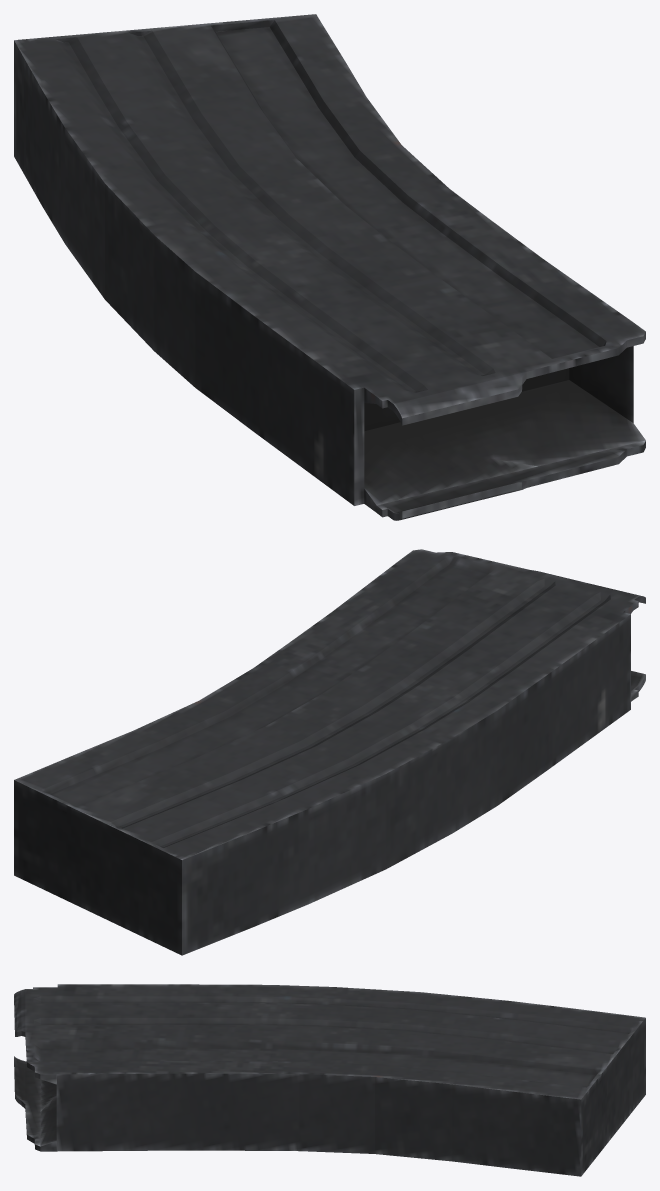
File: VHS2_Custom_magazine.obj
3 views of the same model, one above another, from view 1: azimuth 30°, elevation 25°; view 2: azimuth 150°, elevation 25°; view 3: azimuth 270°, elevation 25° (orthographic). The views are drawn at different scales.
Visible parts, largest first — view 1: Magazine_Low; view 2: Magazine_Low; view 3: Magazine_Low.
Boxes of the visible parts, x1,y1,x2,y2 form: Magazine_Low: [14, 14, 645, 520]; Magazine_Low: [14, 549, 645, 955]; Magazine_Low: [14, 984, 645, 1176].
Bounding box in the file's own units: 2.68 × 0.8345 × 6.2.
Materials: 1 (1 with a texture image).
